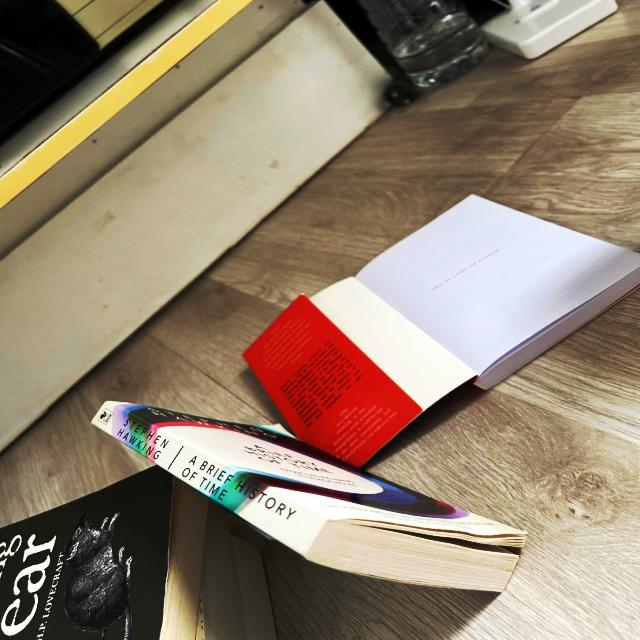Book: (244, 196, 639, 467), (92, 401, 526, 592), (0, 465, 208, 640), (197, 504, 247, 640), (238, 538, 279, 640)
